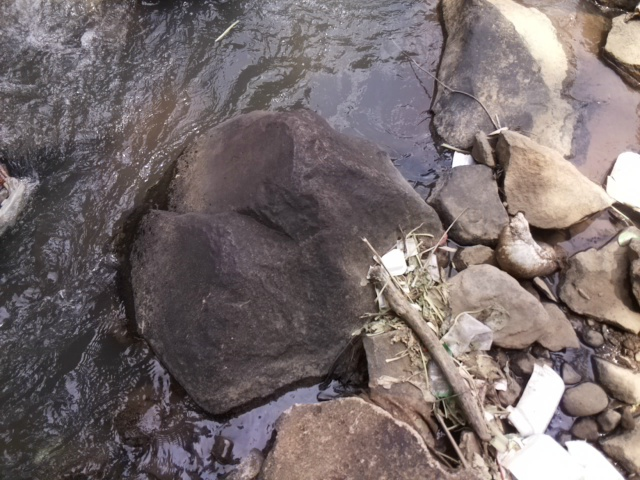Sampah_Styrofoam: (508, 360, 568, 441)
